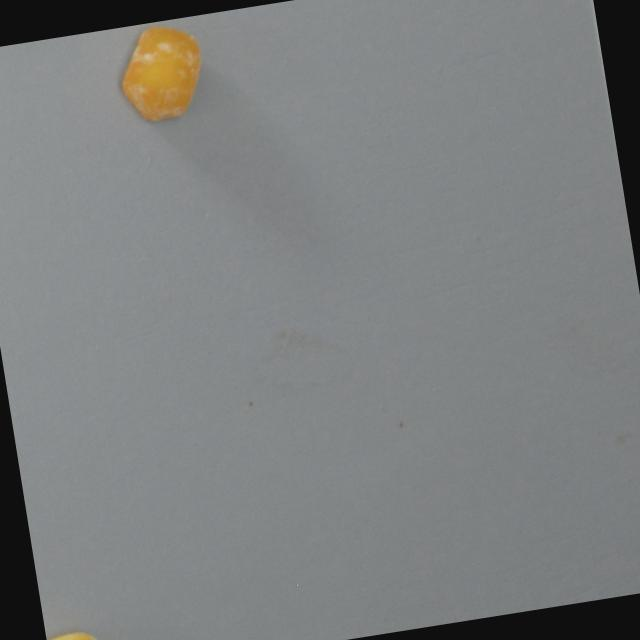dañado: (108, 15, 218, 132)
